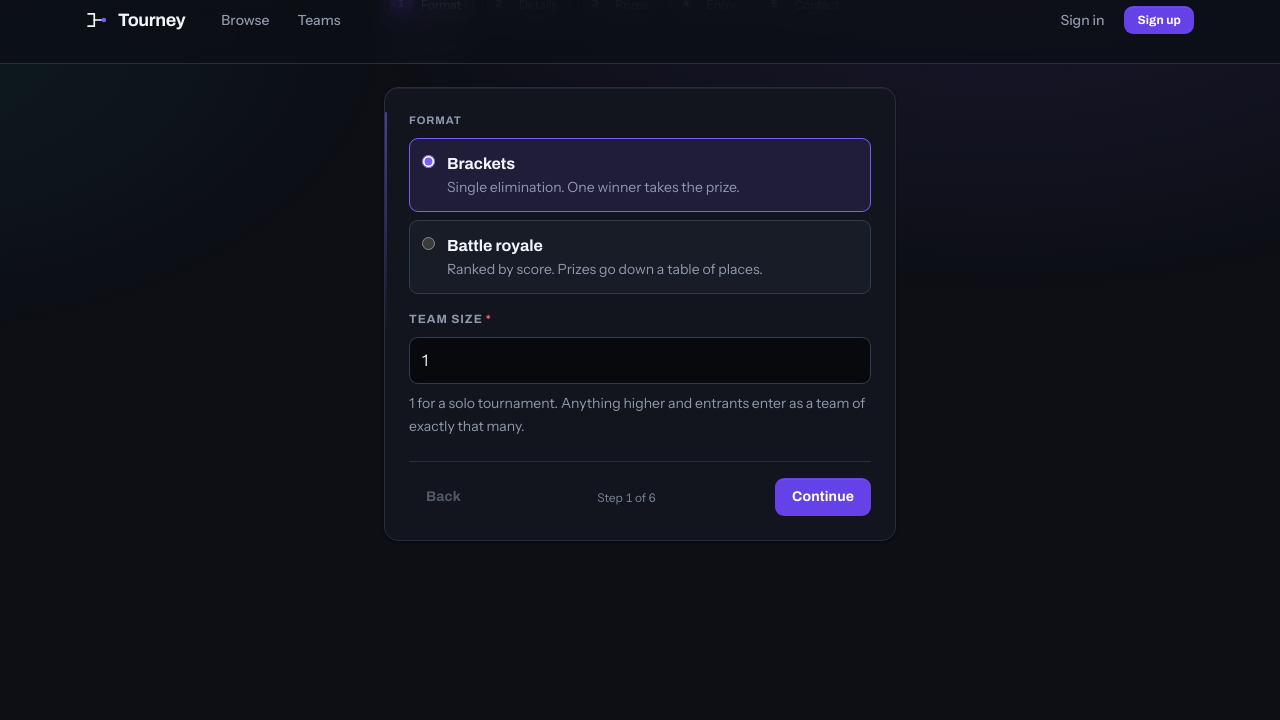
Test: CreateTournamentPage wizard › does not advance past the format step when team size is invalid
(page scrolled)
Replace the text in the number field labelled "Team size*" with "0": (640, 361) [409,337,871,384]
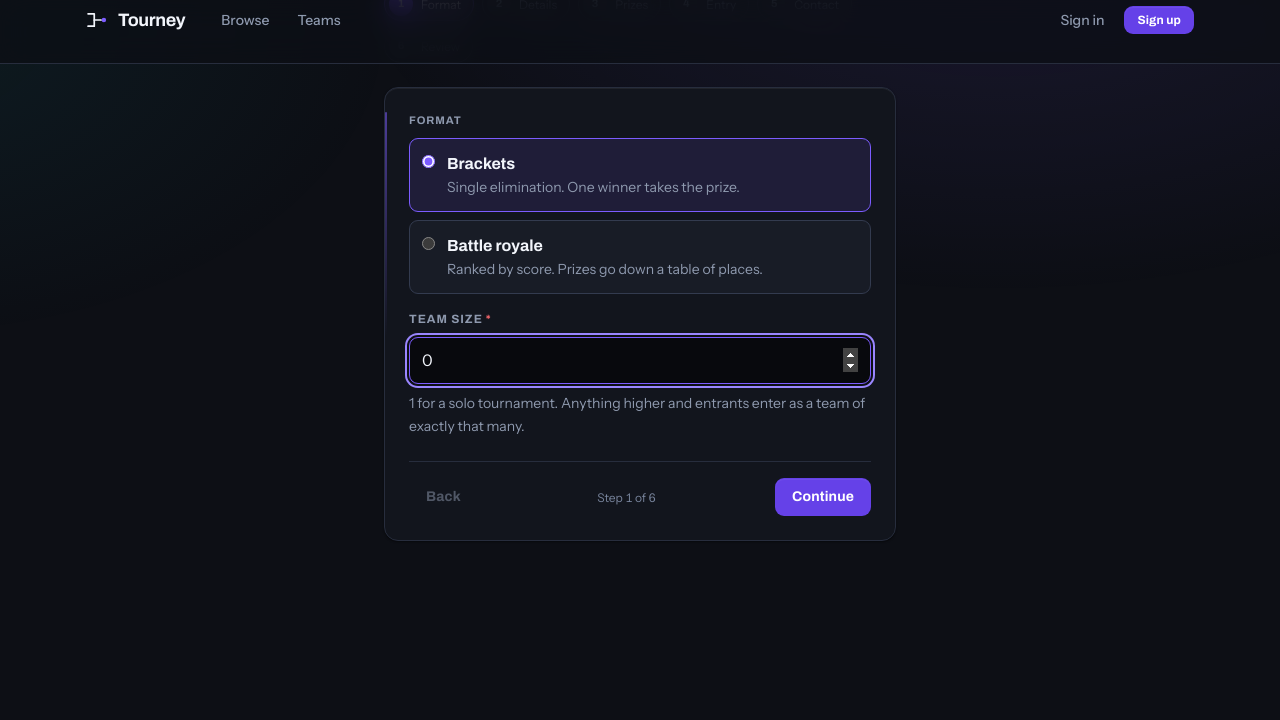
Click the button "Continue": (823, 497) [775,478,871,516]
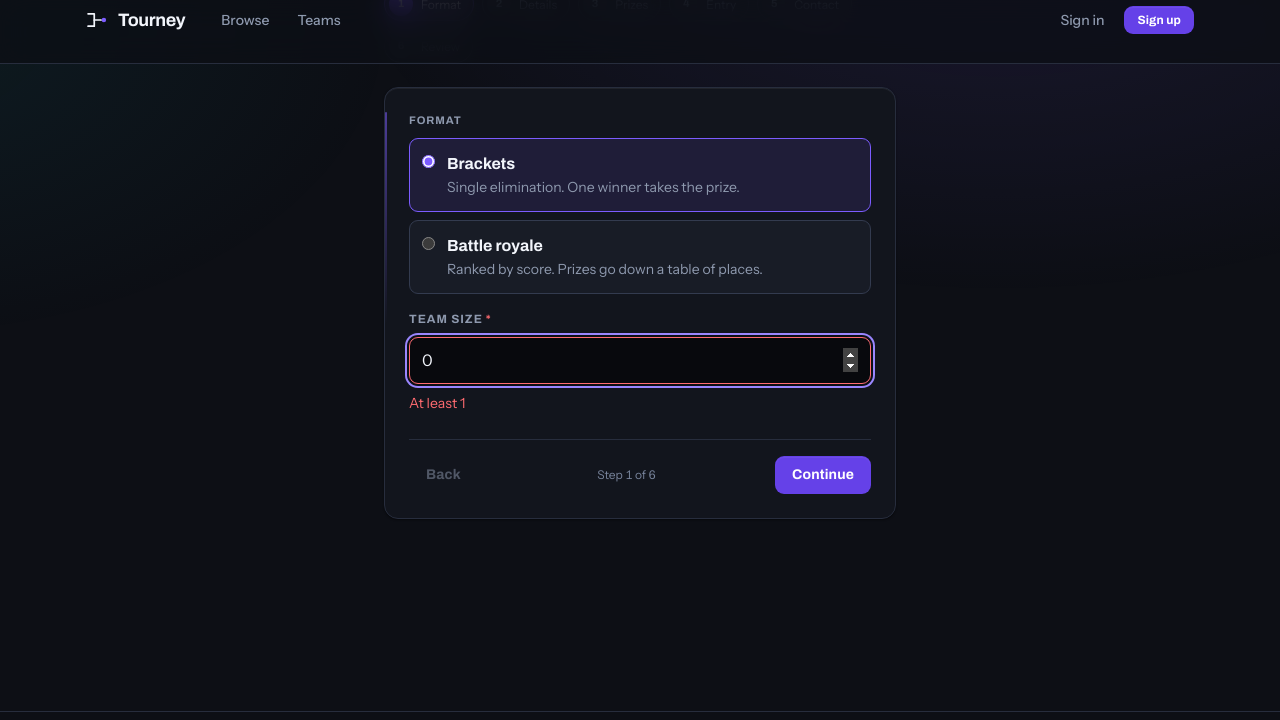
Expected: the text "Step 1 of 6" is shown, [597,465,656,484]
Expected: the text "At least 1" is shown, [409,394,465,412]
